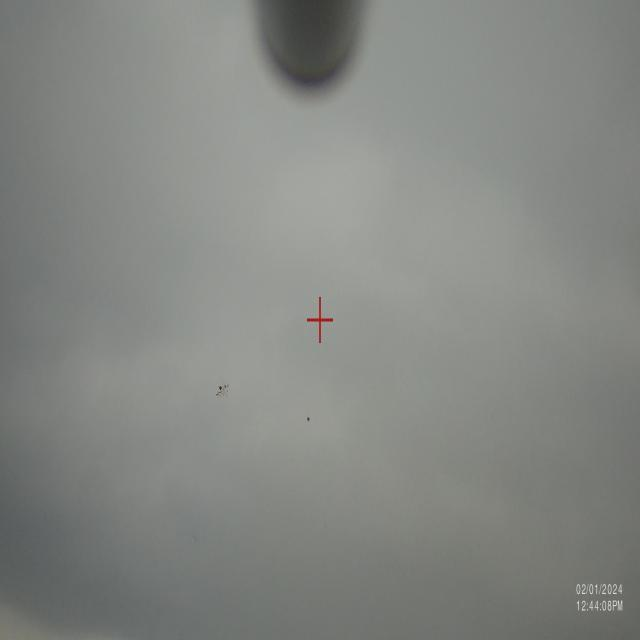broken: (209, 375, 241, 411)
